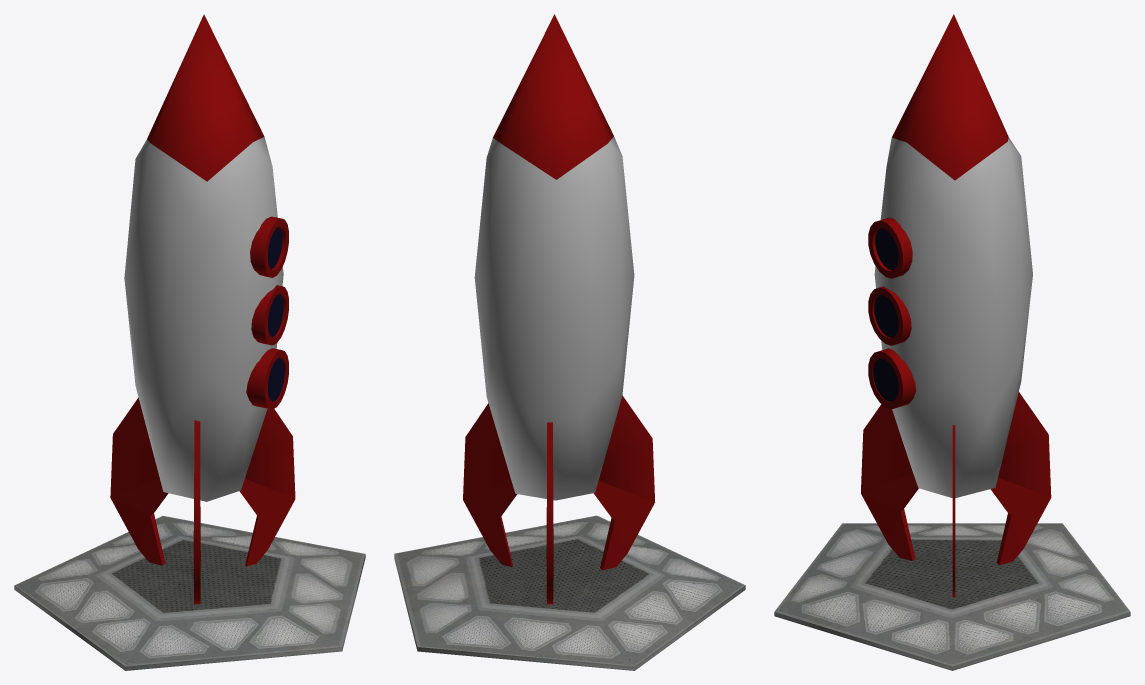
The model's file is CalsRocketButAndrewsTakingCreditCauseHeHadToExportIt.FBX.
3 renders of one model, left to right at view 1: azimuth 30°, elevation 25°; view 2: azimuth 150°, elevation 25°; view 3: azimuth 270°, elevation 25°, orthographic.
Parts seen in each view (by area): view 1: rocket, Lauch pad, windows; view 2: rocket, Lauch pad; view 3: rocket, Lauch pad, windows.
Part boxes in pixels (x1,y1,x2,y2): rocket: (110,14,295,604); Lauch pad: (14,516,365,670); windows: (246,216,288,409); rocket: (463,14,654,604); Lauch pad: (394,515,745,670); rocket: (861,14,1051,597); Lauch pad: (774,523,1130,670); windows: (868,217,916,409).
Size of the model in its own units: 266 by 501 by 280.
